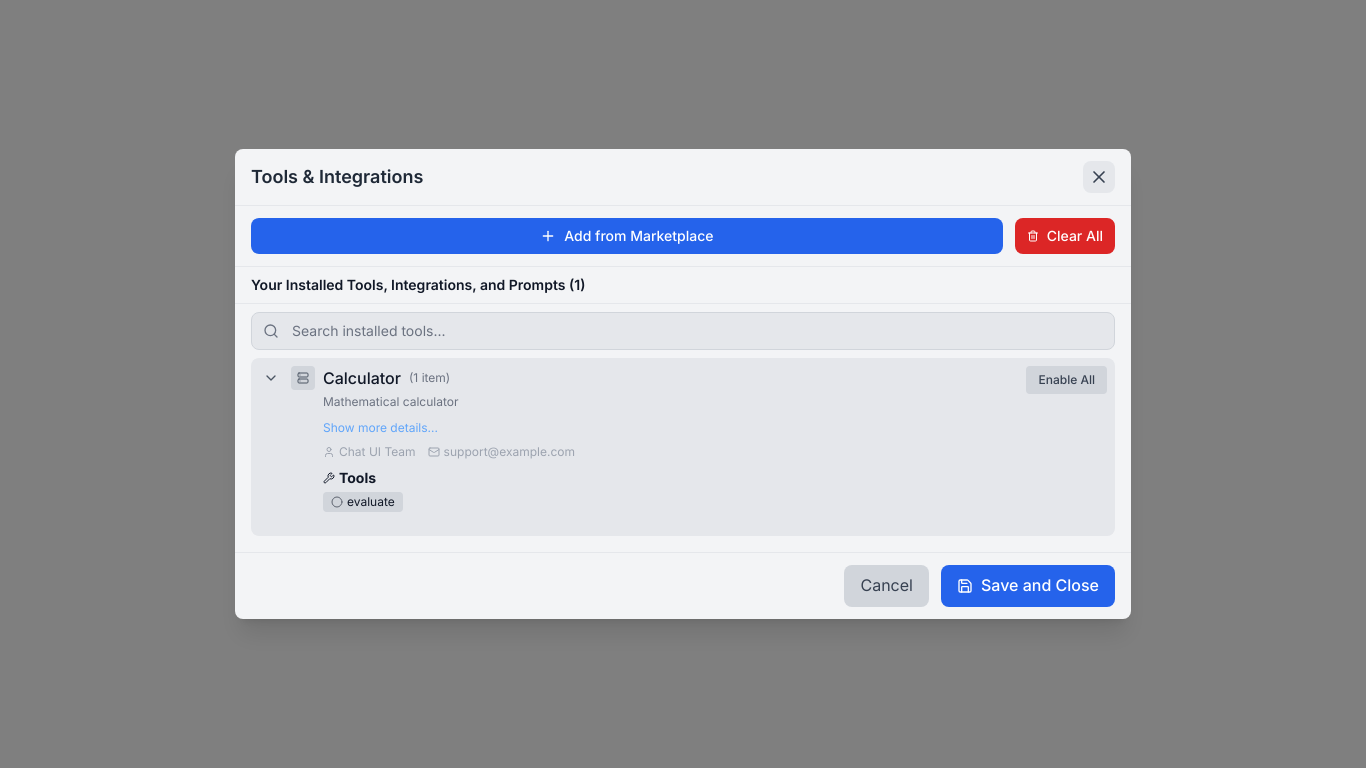
it: ToolsPanel - Custom Information Display › should expand and collapse full description when toggle button is clicked
The width and height of the screenshot is (1366, 768).
// Click "Show more details..." button
Click the button "Show more details..." at (380,428), box [323,420,438,436]
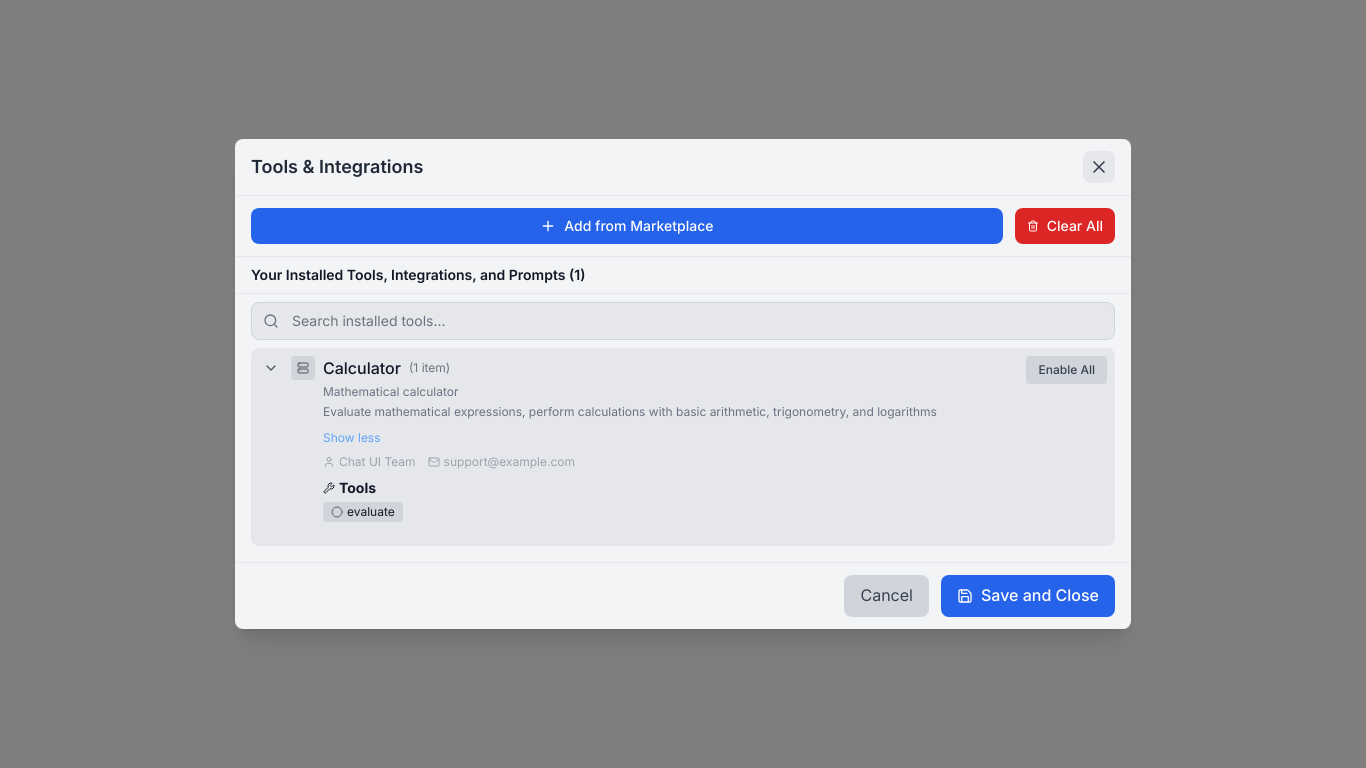
expect the text "Evaluate mathematical expressions, perform calculations" is shown: met, box [323,404,937,419]
expect the button "Show less" is shown: met
expect the button "Show more details..." is gone: met
// Click "Show less" button
Click the button "Show less" at (352,438), box [323,430,380,446]
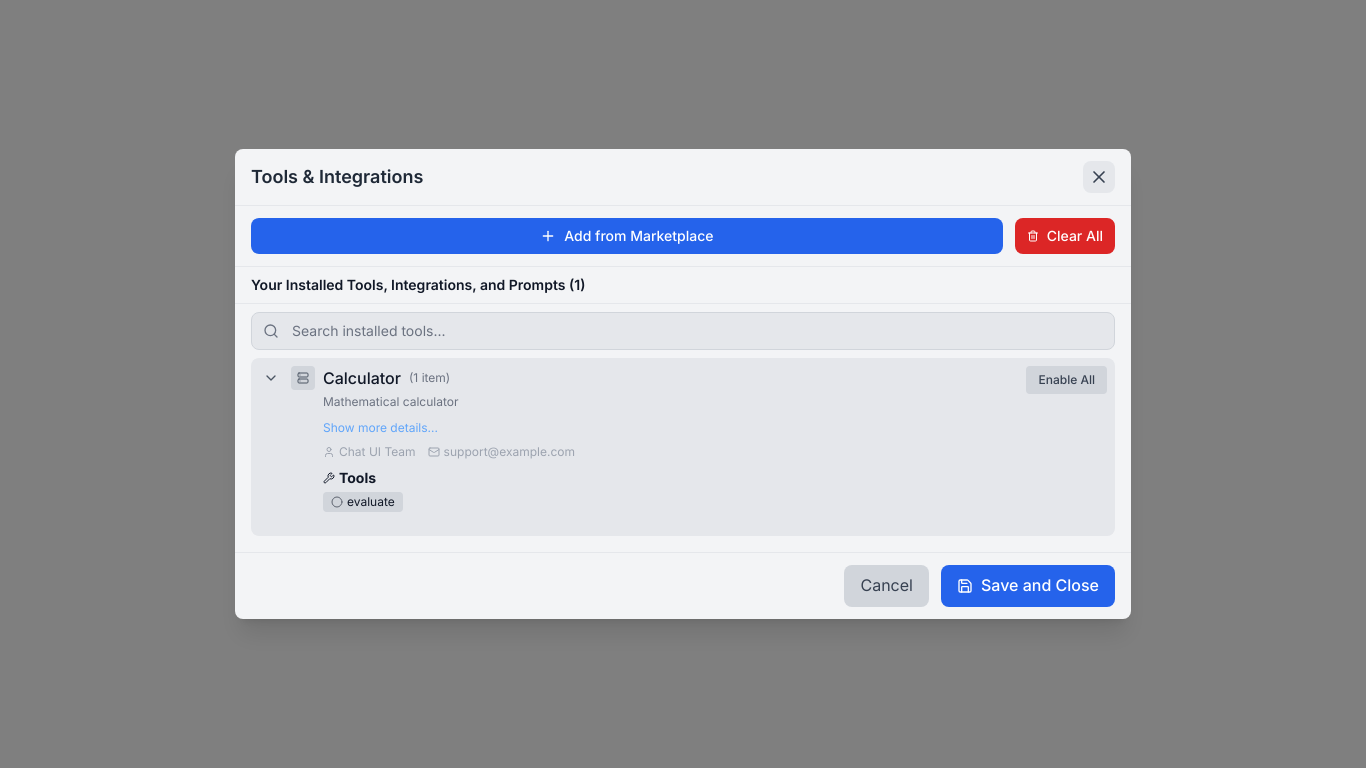
expect the text "Evaluate mathematical expressions, perform calculations" is gone: met
expect the button "Show more details..." is shown: met, box [323,420,438,436]
